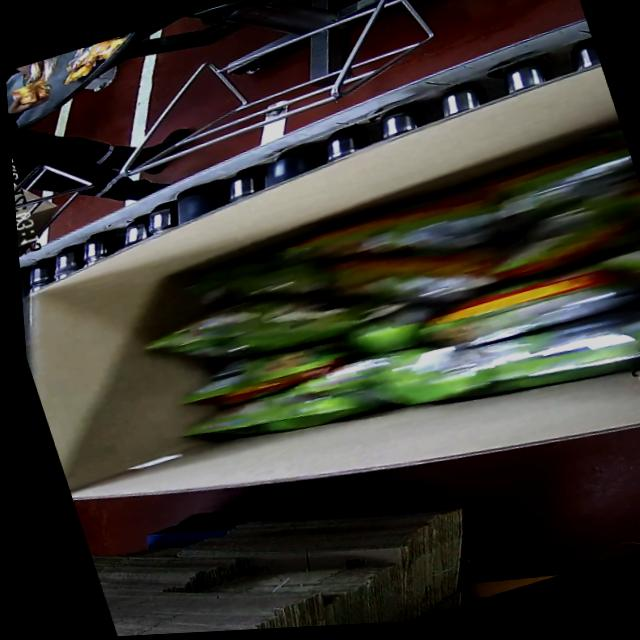YOGURT_HERB: (119, 128, 640, 495)
